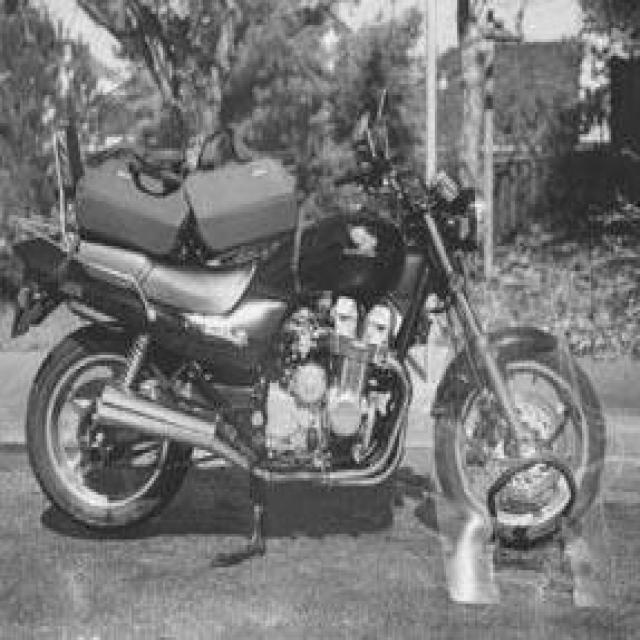Motorcycle: (16, 115, 606, 545)
